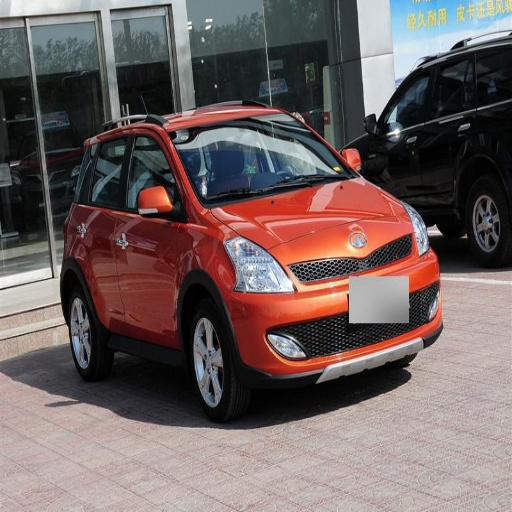back_right_door: (81, 130, 130, 324)
front_bumper: (224, 259, 429, 385)
front_glass: (171, 118, 350, 206)
front_right_door: (118, 128, 185, 342)
front_right_light: (225, 236, 295, 293)
hood: (208, 177, 418, 266)
